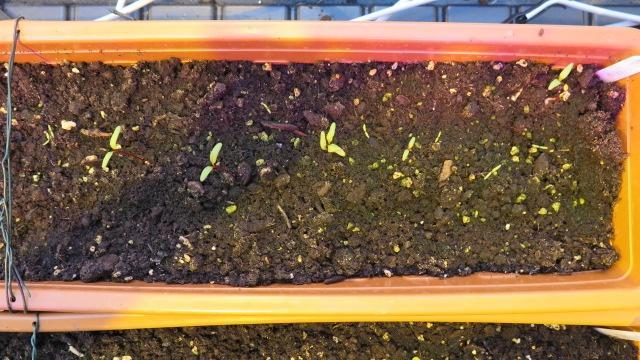crop: (97, 123, 122, 170), (196, 140, 223, 181), (397, 134, 417, 162)
weed: (358, 122, 372, 140)
